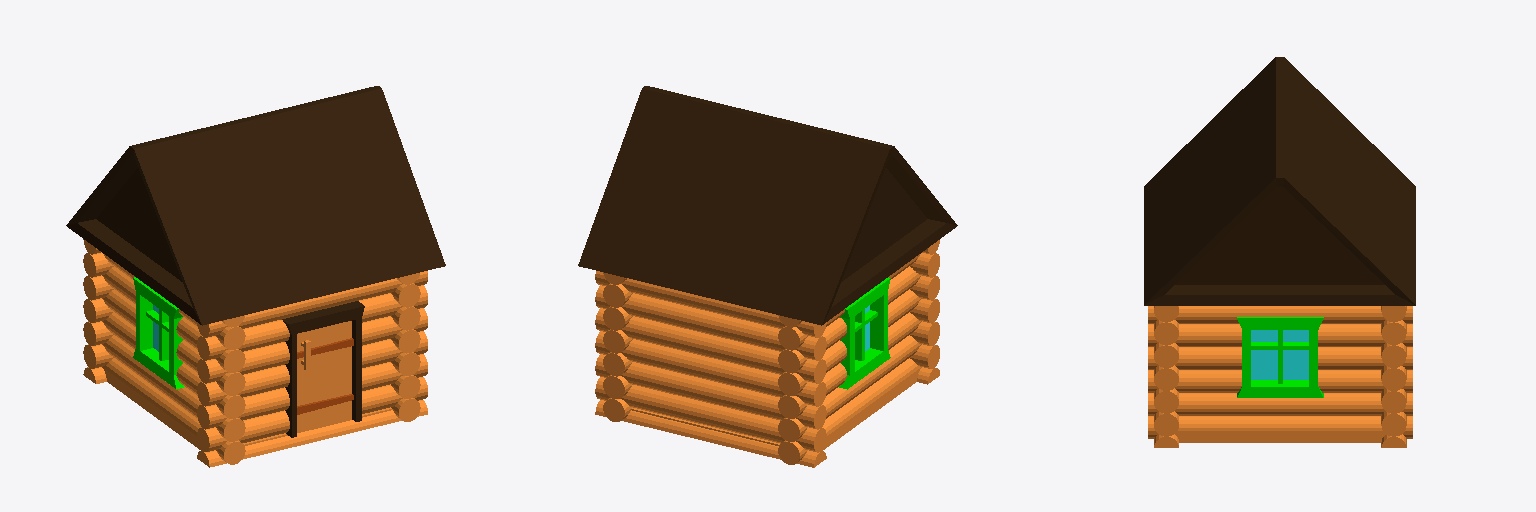
The model's file is isbaForBlend.obj.
3 renders of one model, left to right at view 1: azimuth 30°, elevation 25°; view 2: azimuth 150°, elevation 25°; view 3: azimuth 270°, elevation 25°, orthographic.
Visible parts, largest first — view 1: Isba1:pCube45 polySurface30, polySurface1 Isba1:pCube45, Isba1:pCube45 polySurface20, Isba1:pCube45 polySurface4, Isba1:pCube45 polySurface33, Isba1:pCube45 polySurface37, Isba1:pCube45 polySurface42, Isba1:pCube45 polySurface35, Isba1:pCube45 polySurface7, Isba1:pCube45 polySurface5, Isba1:pCube45 polySurface11, Isba1:pCube45 polySurface9 (+17 smaller); view 2: Isba1:pCube45 polySurface30, Isba1:pCube45 polySurface34, Isba1:pCube45 polySurface40, Isba1:pCube45 polySurface41, Isba1:pCube45 polySurface36, Isba1:pCube45 polySurface43, Isba1:pCube45 polySurface20, Isba1:pCube45 polySurface32, Isba1:pCube45 polySurface39, Isba1:pCube45 polySurface42, Isba1:pCube45 polySurface35, Isba1:pCube45 polySurface29 (+10 smaller); view 3: Isba1:pCube45 polySurface30, Isba1:pCube45 polySurface28, Isba1:pCube45 polySurface38, Isba1:pCube45 polySurface44, Isba1:pCube45 polySurface21, Isba1:pCube45 polySurface29, Isba1:pCube45 polySurface24, Isba1:pCube45 polySurface26, Isba1:pCube45 polySurface25, Isba1:pCube45 polySurface22, Isba1:pCube45 polySurface27, Isba1:pCube45 polySurface23 (+10 smaller).
Part boxes in pixels (left/top/right/bottom): Isba1:pCube45 polySurface30: left=66, top=86, right=445, bottom=325; polySurface1 Isba1:pCube45: left=282, top=301, right=364, bottom=437; Isba1:pCube45 polySurface20: left=133, top=277, right=184, bottom=388; Isba1:pCube45 polySurface4: left=197, top=377, right=427, bottom=451; Isba1:pCube45 polySurface33: left=197, top=271, right=427, bottom=337; Isba1:pCube45 polySurface37: left=197, top=400, right=427, bottom=467; Isba1:pCube45 polySurface42: left=102, top=335, right=245, bottom=441; Isba1:pCube45 polySurface35: left=103, top=358, right=245, bottom=464; Isba1:pCube45 polySurface7: left=197, top=365, right=289, bottom=406; Isba1:pCube45 polySurface5: left=197, top=387, right=289, bottom=429; Isba1:pCube45 polySurface11: left=197, top=342, right=289, bottom=383; Isba1:pCube45 polySurface9: left=197, top=320, right=289, bottom=360; Isba1:pCube45 polySurface30: left=578, top=86, right=957, bottom=325; Isba1:pCube45 polySurface34: left=595, top=308, right=826, bottom=383; Isba1:pCube45 polySurface40: left=595, top=331, right=826, bottom=406; Isba1:pCube45 polySurface41: left=595, top=377, right=826, bottom=452; Isba1:pCube45 polySurface36: left=595, top=285, right=826, bottom=360; Isba1:pCube45 polySurface43: left=595, top=354, right=826, bottom=429; Isba1:pCube45 polySurface20: left=839, top=277, right=890, bottom=389; Isba1:pCube45 polySurface32: left=595, top=271, right=826, bottom=337; Isba1:pCube45 polySurface39: left=595, top=400, right=826, bottom=467; Isba1:pCube45 polySurface42: left=778, top=335, right=921, bottom=441; Isba1:pCube45 polySurface35: left=778, top=358, right=920, bottom=464; Isba1:pCube45 polySurface29: left=631, top=367, right=921, bottom=452; Isba1:pCube45 polySurface30: left=1144, top=57, right=1415, bottom=305; Isba1:pCube45 polySurface28: left=1237, top=317, right=1323, bottom=397; Isba1:pCube45 polySurface38: left=1148, top=393, right=1412, bottom=415; Isba1:pCube45 polySurface44: left=1148, top=416, right=1412, bottom=438; Isba1:pCube45 polySurface21: left=1148, top=306, right=1412, bottom=323; Isba1:pCube45 polySurface29: left=1175, top=431, right=1385, bottom=442; Isba1:pCube45 polySurface24: left=1318, top=347, right=1412, bottom=369; Isba1:pCube45 polySurface26: left=1318, top=324, right=1412, bottom=346; Isba1:pCube45 polySurface25: left=1148, top=347, right=1241, bottom=369; Isba1:pCube45 polySurface22: left=1318, top=370, right=1412, bottom=392; Isba1:pCube45 polySurface27: left=1148, top=324, right=1241, bottom=346; Isba1:pCube45 polySurface23: left=1148, top=370, right=1241, bottom=392.
Size of the model in its own units: 22.68 by 24.26 by 21.57.